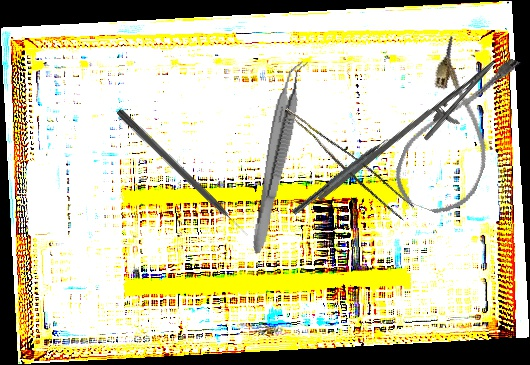Cannula: (386, 34, 525, 224)
Chopper: (291, 130, 400, 223)
Needle Holder: (316, 41, 508, 232)
Pusher: (114, 108, 251, 240)
Tissue Forceps: (273, 107, 418, 222), (249, 55, 309, 258)
